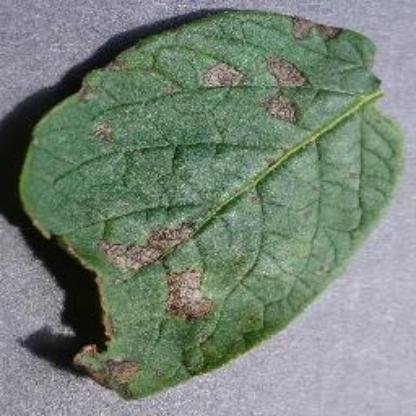Early-Blight: (17, 0, 416, 404)
